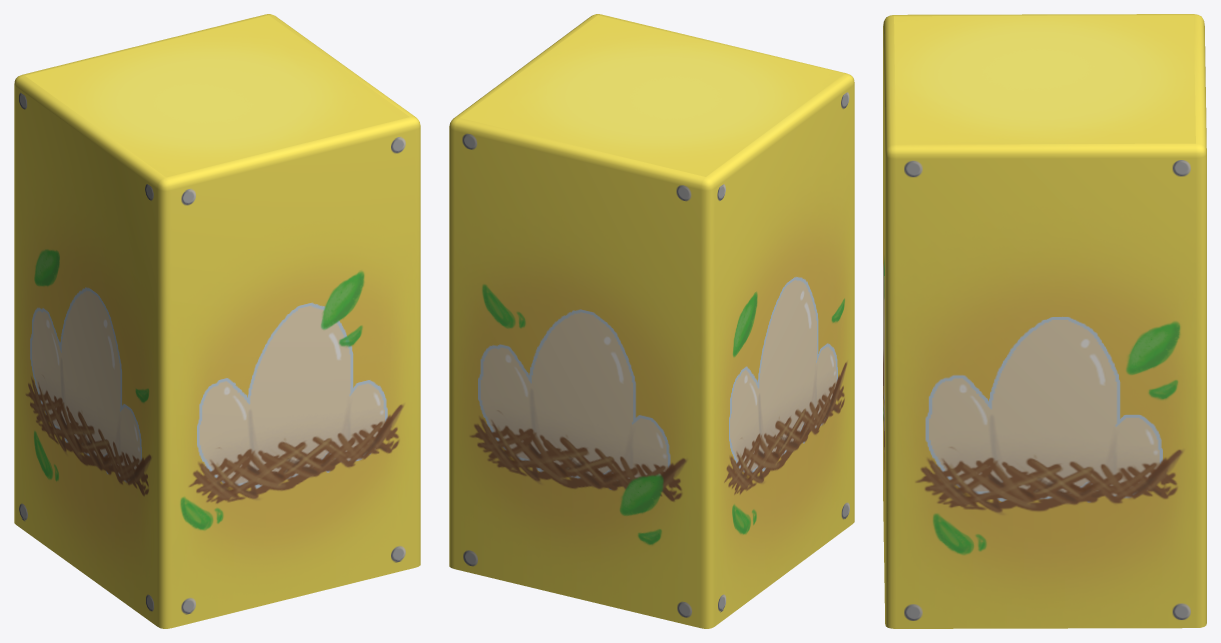
The model's file is OilPushBlockRectangle.fbx.
3 renders of one model, left to right at view 1: azimuth 30°, elevation 25°; view 2: azimuth 150°, elevation 25°; view 3: azimuth 270°, elevation 25°, orthographic. The views are drawn at different scales.
Parts seen in each view (by area): view 1: Box001; view 2: Box001; view 3: Box001.
Part boxes in pixels (x1,y1,x2,y2): Box001: (14,14,420,628); Box001: (449,14,854,628); Box001: (883,14,1206,628).
Size of the model in its own units: 487 by 788 by 482.
